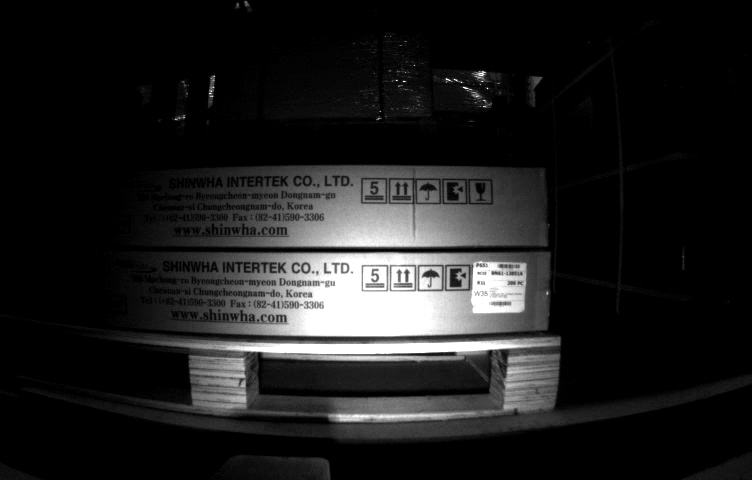True Barcode: (475, 260, 526, 312)
